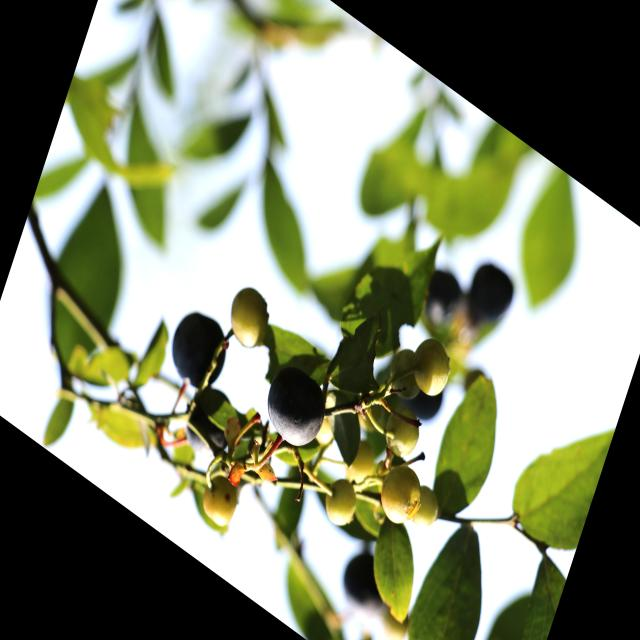blueberry: (256, 352, 336, 465), (164, 295, 237, 401), (178, 375, 244, 472), (332, 543, 392, 631), (416, 255, 472, 341), (462, 252, 518, 332), (400, 372, 444, 431)
blueberry-unripe: (373, 455, 427, 536), (223, 282, 273, 357), (407, 332, 456, 404), (196, 470, 239, 532), (320, 474, 361, 534), (380, 411, 422, 466), (405, 482, 444, 541)
